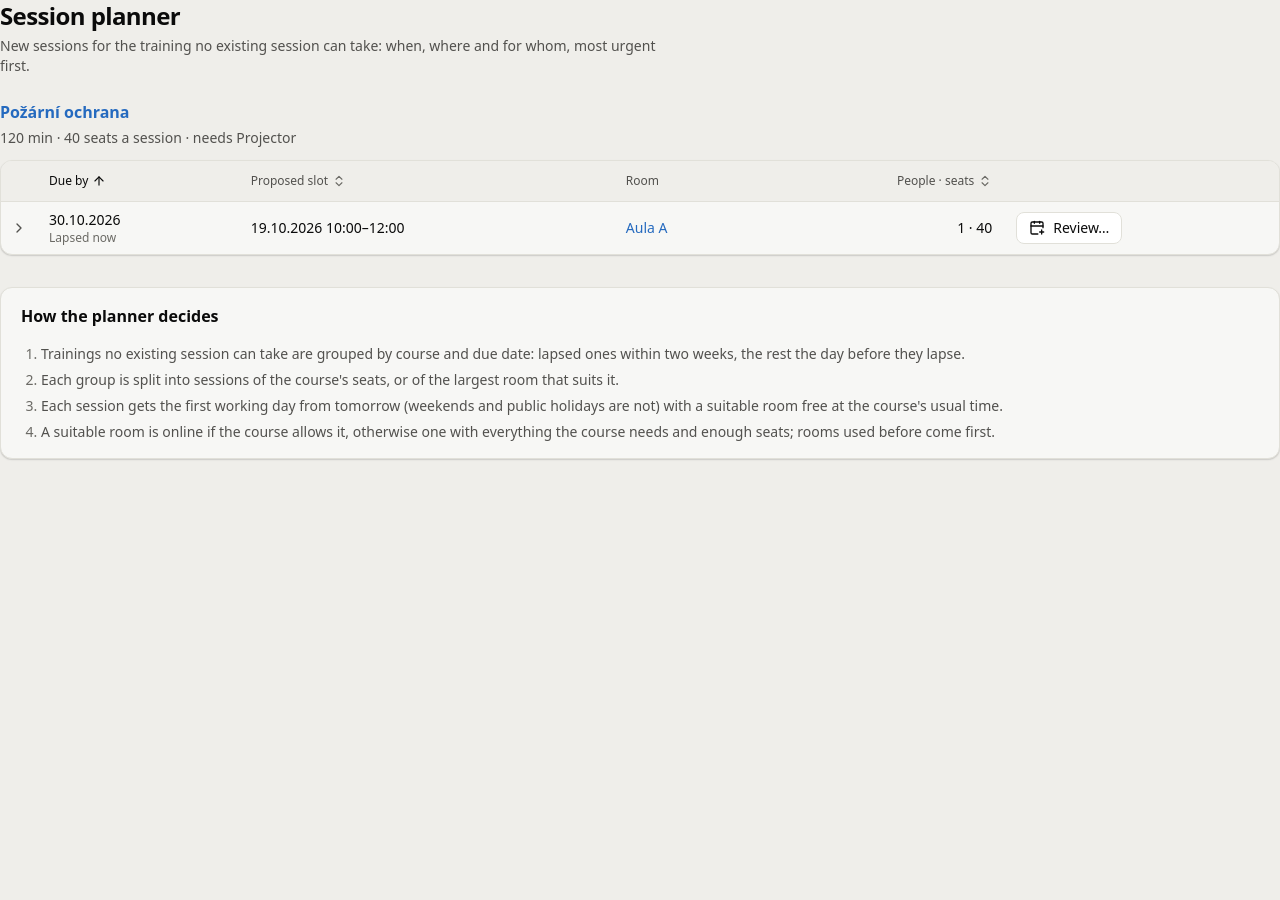
Test: session planner › will not check a session whose room is taken then
This screenshot has width=1280, height=900.
Click the button with aria-label "Review session 1 of Požární ochrana".
click(1069, 228)  # box left=1016, top=212, right=1122, bottom=244
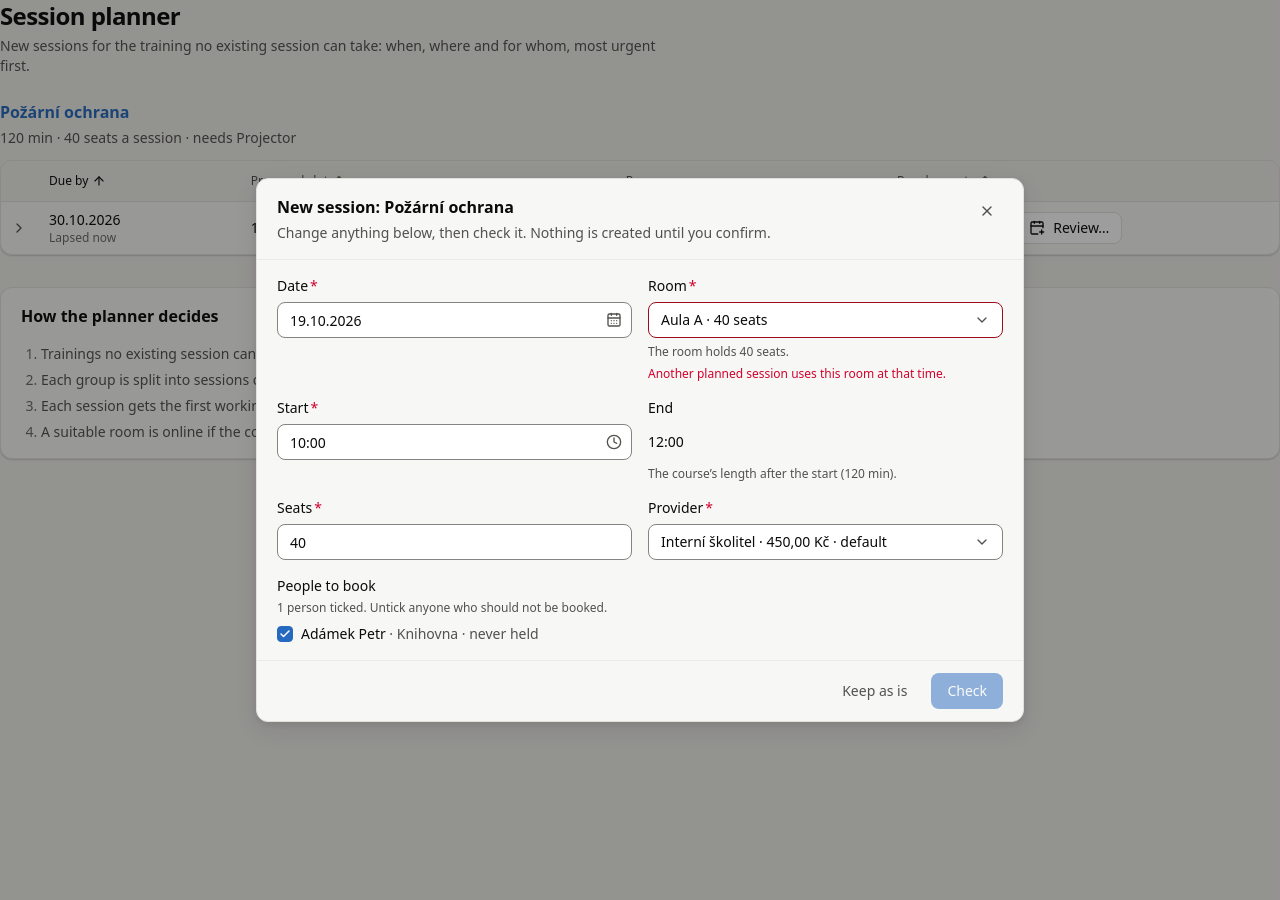
Now the text "Another planned session uses this room at that time." is shown, box left=648, top=365, right=946, bottom=382
Now the button "Check" is disabled, box left=931, top=673, right=1003, bottom=709
